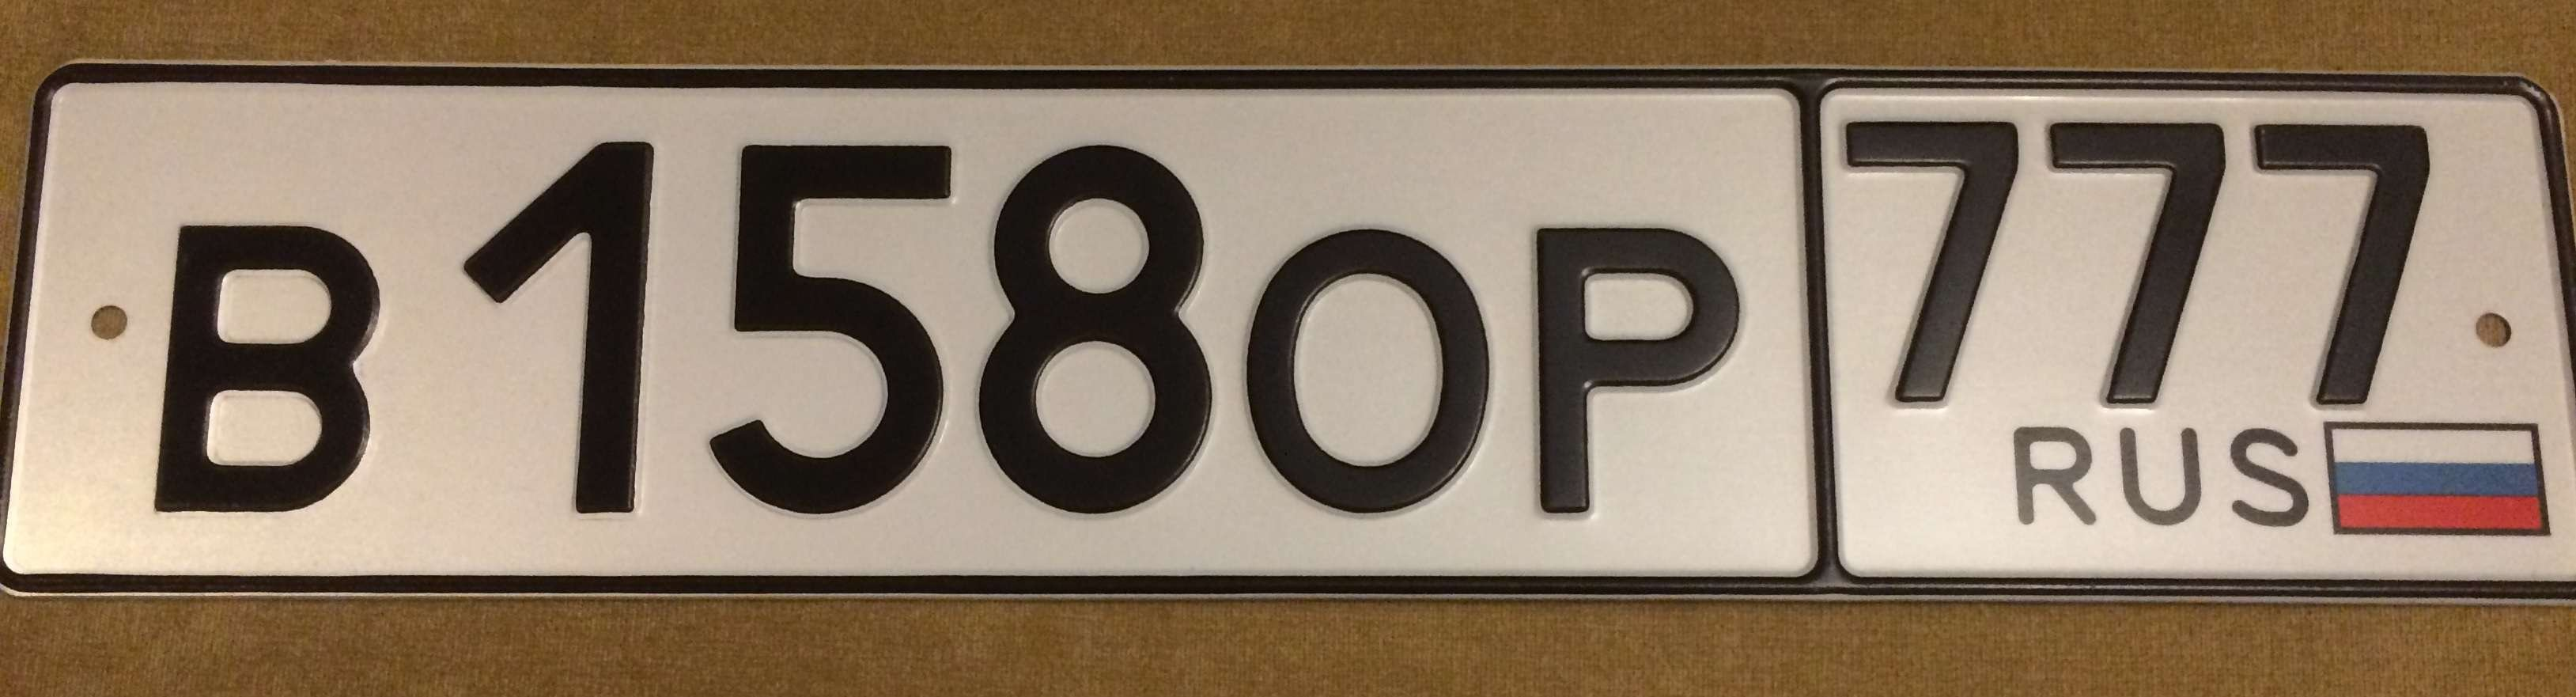number_plate: (47, 65, 2552, 579)
